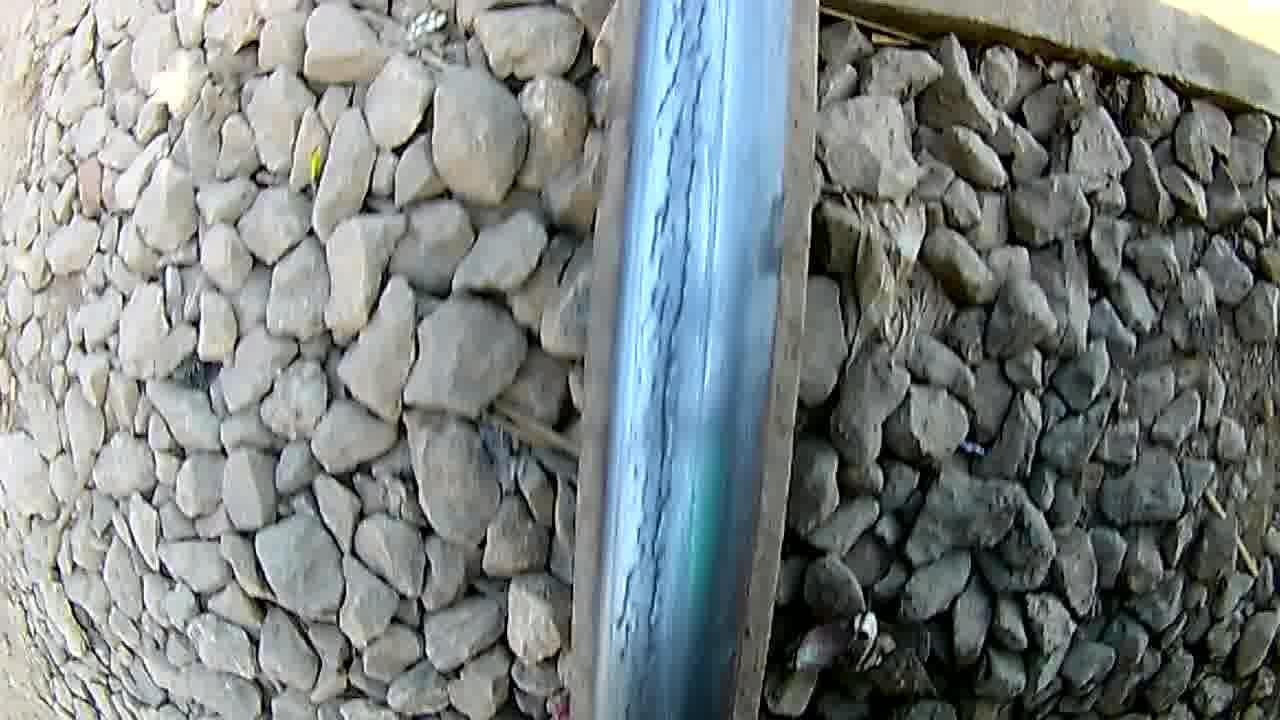crack: (614, 0, 726, 713)
